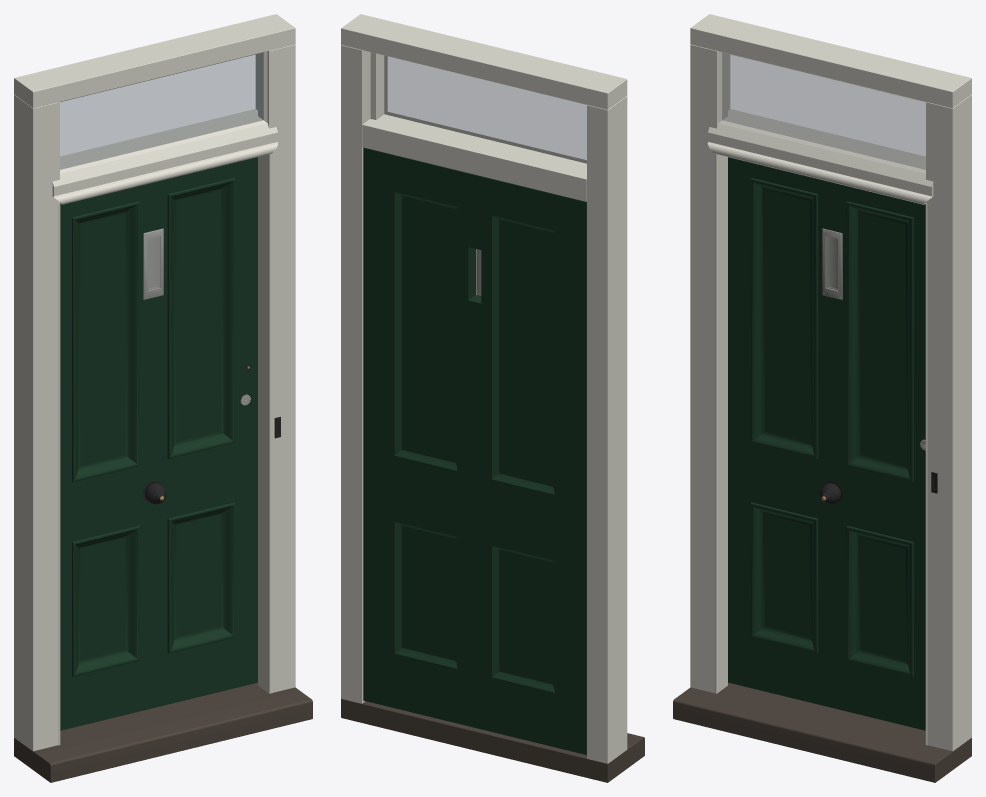
Rendered from door_F1.glb.
3 renders of one model, left to right at view 1: azimuth 30°, elevation 25°; view 2: azimuth 150°, elevation 25°; view 3: azimuth 330°, elevation 25°, orthographic.
Visible parts, largest first — view 1: leaf_frame, frame_jamb_L, frame_jamb_R, glass_fanlight, stone_threshold, panel_top_left, panel_top_right, frame_transom, frame_head, moulding_bolection_top_right, moulding_bolection_top_left, panel_bottom_left (+8 smaller); view 2: leaf_frame, frame_jamb_L, frame_jamb_R, panel_top_left, panel_top_right, glass_fanlight, frame_head, frame_transom, stone_threshold, panel_bottom_left, panel_bottom_right, moulding_single_top_right (+4 smaller); view 3: leaf_frame, frame_jamb_R, frame_jamb_L, glass_fanlight, stone_threshold, panel_top_right, panel_top_left, frame_transom, frame_head, moulding_bolection_top_left, moulding_bolection_top_right, panel_bottom_right (+8 smaller).
Boxes of the visible parts, bbox=[...] form: leaf_frame: bbox=[60, 157, 257, 730]; frame_jamb_L: bbox=[14, 94, 59, 751]; frame_jamb_R: bbox=[255, 44, 295, 693]; glass_fanlight: bbox=[60, 52, 263, 169]; stone_threshold: bbox=[14, 682, 312, 782]; panel_top_left: bbox=[80, 213, 125, 465]; panel_top_right: bbox=[176, 190, 220, 442]; frame_transom: bbox=[52, 109, 278, 204]; frame_head: bbox=[14, 14, 295, 108]; moulding_bolection_top_right: bbox=[167, 178, 234, 458]; moulding_bolection_top_left: bbox=[72, 201, 139, 482]; panel_bottom_left: bbox=[80, 538, 125, 660]; leaf_frame: bbox=[363, 147, 586, 754]; frame_jamb_L: bbox=[587, 96, 627, 763]; frame_jamb_R: bbox=[341, 45, 384, 703]; panel_top_left: bbox=[499, 220, 552, 486]; panel_top_right: bbox=[402, 196, 455, 462]; glass_fanlight: bbox=[384, 56, 586, 163]; frame_head: bbox=[341, 14, 627, 109]; frame_transom: bbox=[362, 114, 586, 201]; stone_threshold: bbox=[341, 699, 644, 782]; panel_bottom_left: bbox=[499, 550, 552, 684]; panel_bottom_right: bbox=[402, 526, 455, 660]; moulding_single_top_right: bbox=[393, 190, 458, 472]; leaf_frame: bbox=[728, 157, 925, 730]; frame_jamb_R: bbox=[926, 94, 971, 751]; frame_jamb_L: bbox=[690, 44, 730, 693]; glass_fanlight: bbox=[722, 52, 925, 169]; stone_threshold: bbox=[673, 682, 971, 782]; panel_top_right: bbox=[860, 213, 905, 465]; panel_top_left: bbox=[765, 190, 809, 442]; frame_transom: bbox=[707, 109, 933, 204]; frame_head: bbox=[690, 14, 971, 108]; moulding_bolection_top_left: bbox=[751, 178, 818, 458]; moulding_bolection_top_right: bbox=[846, 201, 913, 482]; panel_bottom_right: bbox=[860, 538, 905, 660].
Bounding box in the file's own units: 1 × 2.47 × 0.2413.
